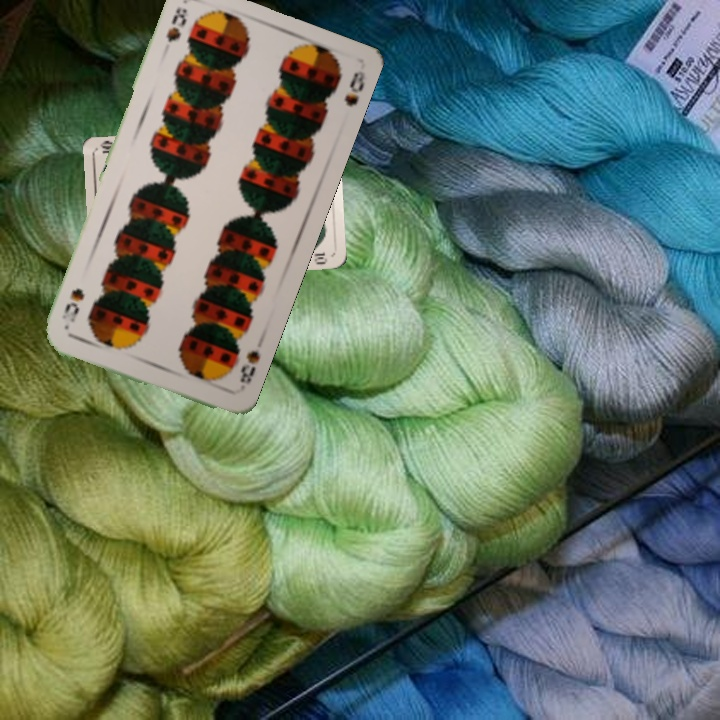S8: (162, 3, 190, 45), (235, 346, 263, 387)
